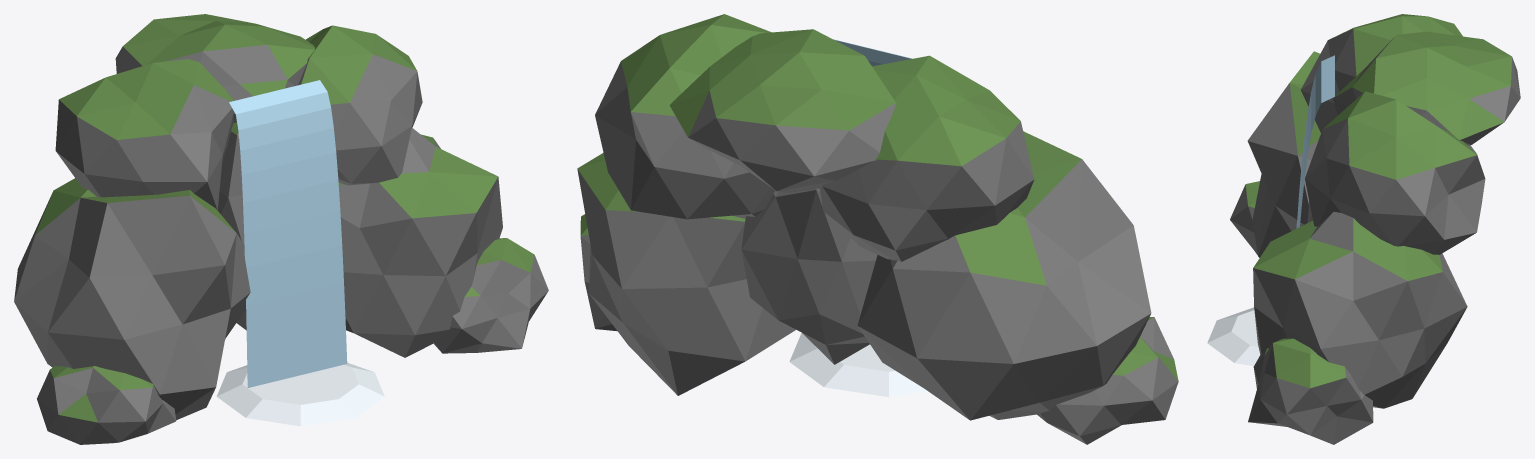
Rendered from waterfall.fbx.
3 views of the same model, side by side, from view 1: azimuth 30°, elevation 25°; view 2: azimuth 150°, elevation 25°; view 3: azimuth 270°, elevation 25° (orthographic). The views are drawn at different scales.
Visible parts, largest first — view 1: Fall_Rock, Fall_Moss, Fall_Water, Fall_Foam; view 2: Fall_Rock, Fall_Moss, Fall_Foam, Fall_Water; view 3: Fall_Rock, Fall_Moss, Fall_Foam, Fall_Water.
Part boxes in pixels (x1=…): Fall_Rock: x1=14, y1=45, x2=548, y2=444; Fall_Moss: x1=35, y1=14, x2=534, y2=422; Fall_Water: x1=229, y1=80, x2=347, y2=387; Fall_Foam: x1=216, y1=362, x2=384, y2=426; Fall_Rock: x1=577, y1=61, x2=1178, y2=444; Fall_Moss: x1=577, y1=14, x2=1178, y2=380; Fall_Foam: x1=789, y1=333, x2=927, y2=397; Fall_Water: x1=833, y1=39, x2=912, y2=66; Fall_Rock: x1=1230, y1=29, x2=1520, y2=444; Fall_Moss: x1=1245, y1=14, x2=1511, y2=388; Fall_Foam: x1=1207, y1=307, x2=1260, y2=365; Fall_Water: x1=1296, y1=55, x2=1334, y2=228.
Bounding box in the file's own units: 17.3 × 10.84 × 10.22.
